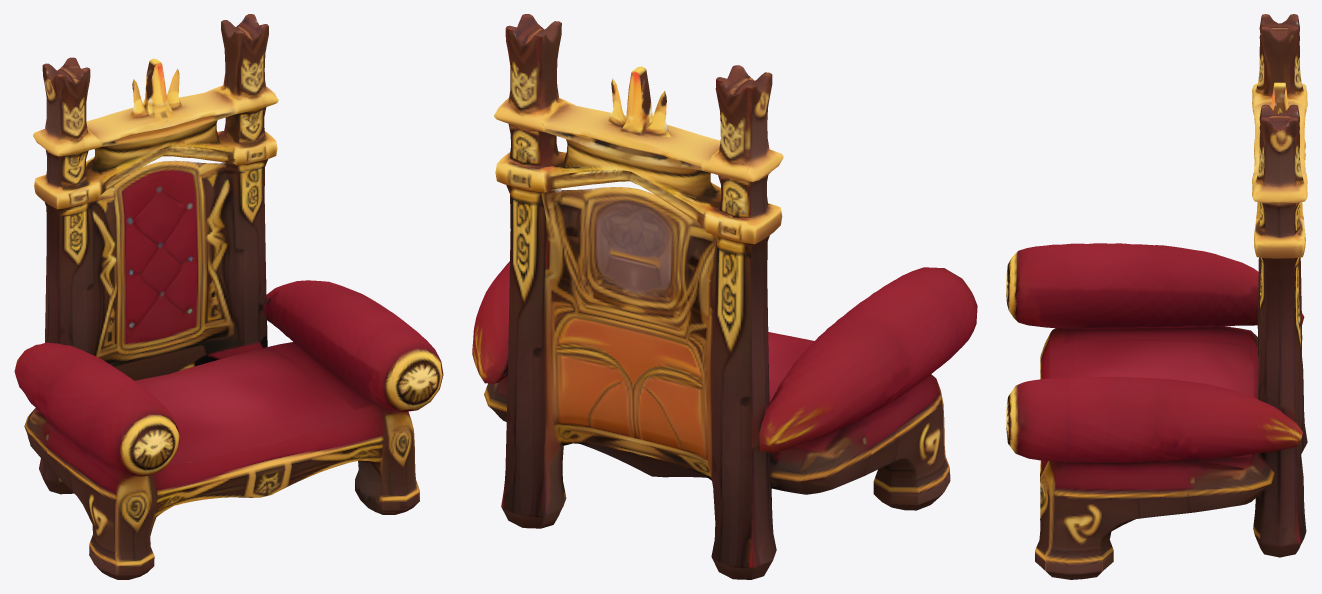
File: Throne.fbx
3 views of the same model, side by side, from view 1: azimuth 30°, elevation 25°; view 2: azimuth 150°, elevation 25°; view 3: azimuth 270°, elevation 25° (orthographic). The views are drawn at different scales.
Parts seen in each view (by area): view 1: Throne; view 2: Throne; view 3: Throne.
Part boxes in pixels (box(x1,y1,x2,y2)): Throne: box(14, 14, 443, 579); Throne: box(472, 14, 977, 579); Throne: box(1006, 14, 1307, 579).
Size of the model in its own units: 387 by 460 by 286.
